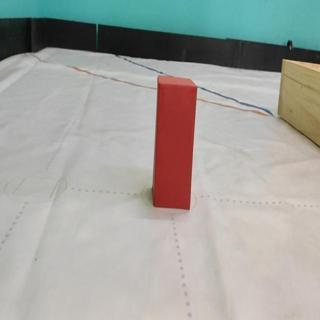redbox: (151, 74, 197, 211)
